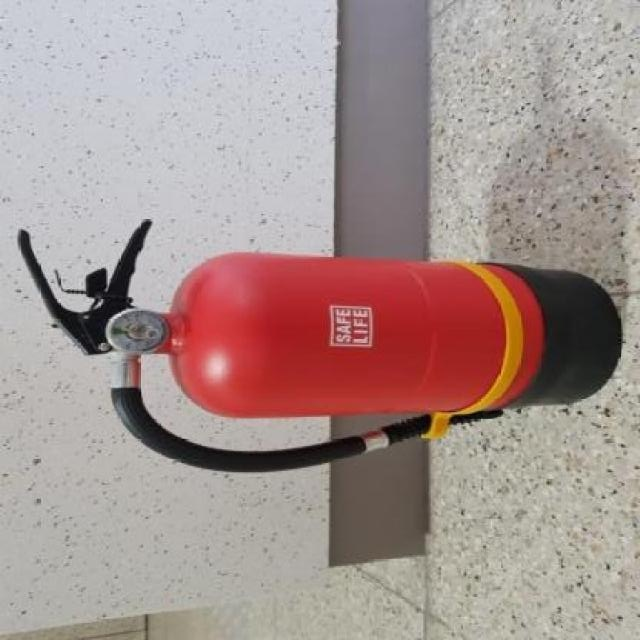fire extinguisher: (17, 220, 621, 474)
